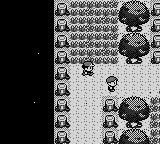captura: (70, 1, 118, 64), (150, 97, 159, 143)
main: (81, 61, 95, 76)
no-caminable: (1, 0, 53, 143), (54, 0, 70, 144), (118, 2, 150, 64), (119, 97, 149, 143), (103, 96, 118, 143), (150, 2, 160, 64)
npc: (106, 76, 118, 92)
